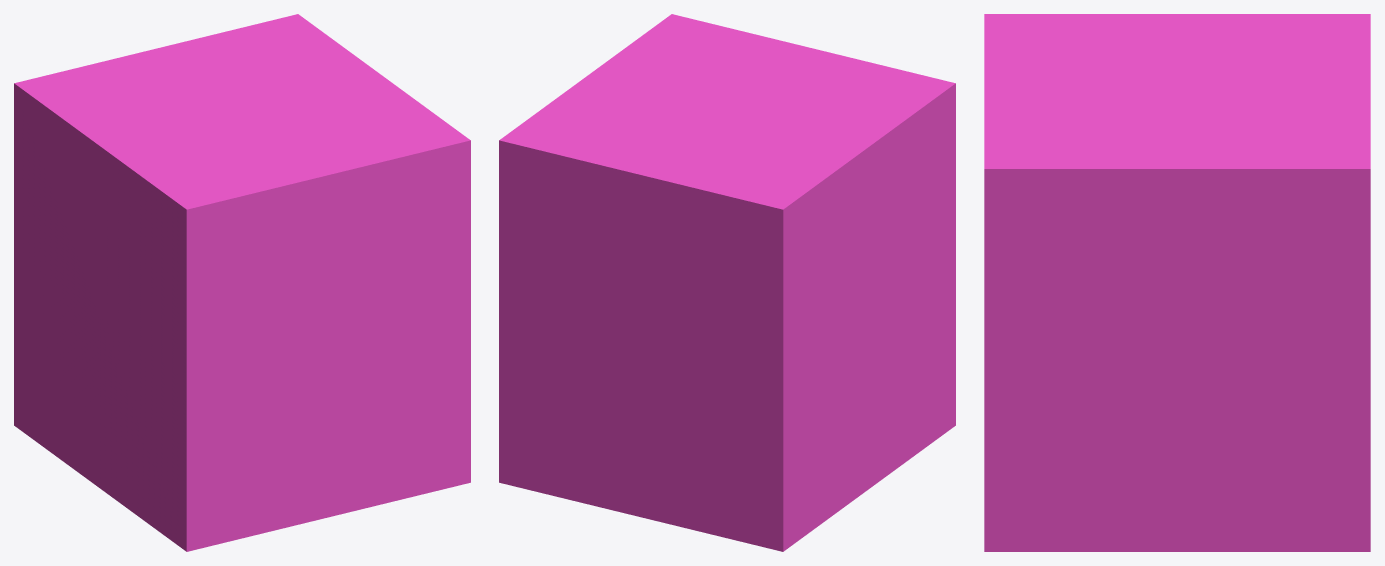
The model's file is repair_station_lvl03.glb.
3 renders of one model, left to right at view 1: azimuth 30°, elevation 25°; view 2: azimuth 150°, elevation 25°; view 3: azimuth 270°, elevation 25°, orthographic. The views are drawn at different scales.
Parts seen in each view (by area): view 1: COL_BOX_BODY; view 2: COL_BOX_BODY; view 3: COL_BOX_BODY.
Boxes of the visible parts, bbox=[...] form: COL_BOX_BODY: bbox=[14, 14, 470, 551]; COL_BOX_BODY: bbox=[499, 14, 955, 551]; COL_BOX_BODY: bbox=[984, 14, 1370, 551].
Bounding box in the file's own units: 1.32 × 1.52 × 1.39.
